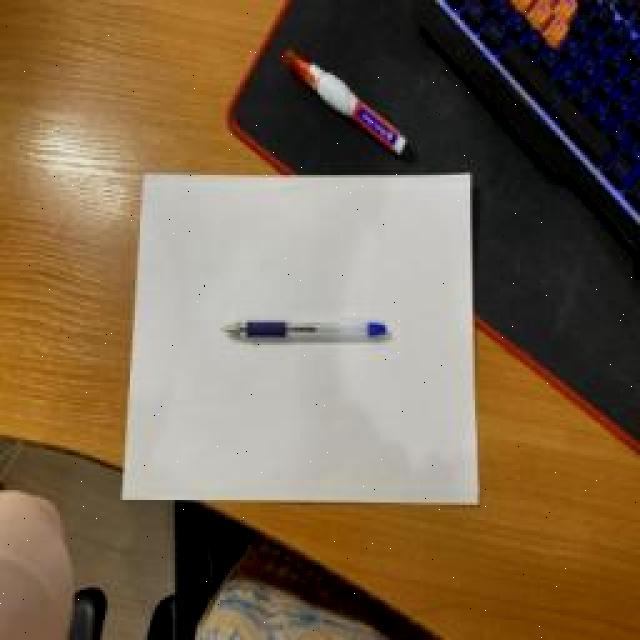pen: (220, 320, 390, 340)
